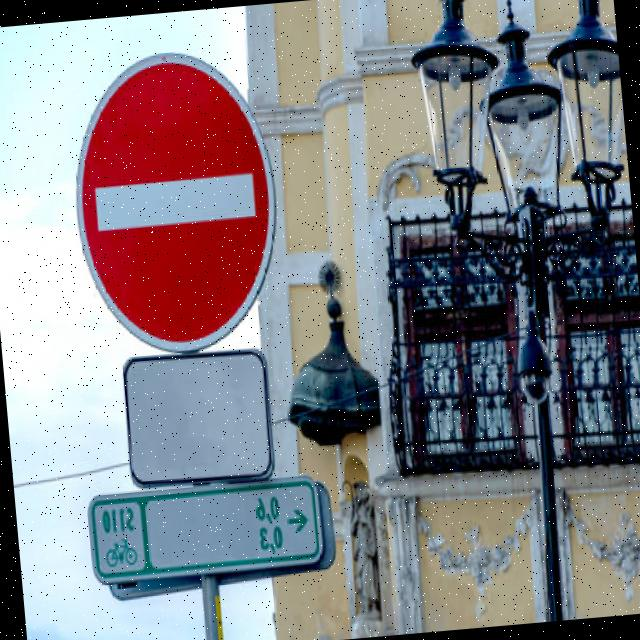do_not_enter: (59, 32, 292, 361)
